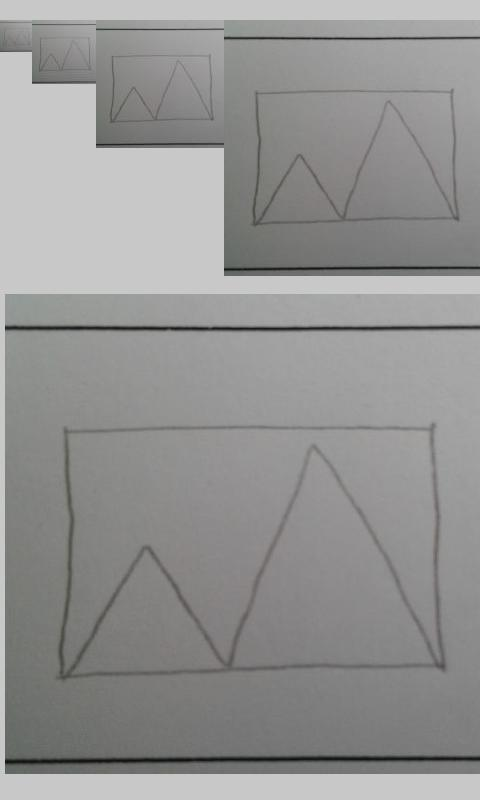image_view: (54, 419, 447, 684), (251, 89, 460, 225), (109, 54, 213, 123), (39, 37, 91, 72), (3, 28, 30, 47)
